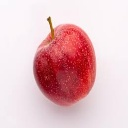apple: (32, 16, 97, 108)
